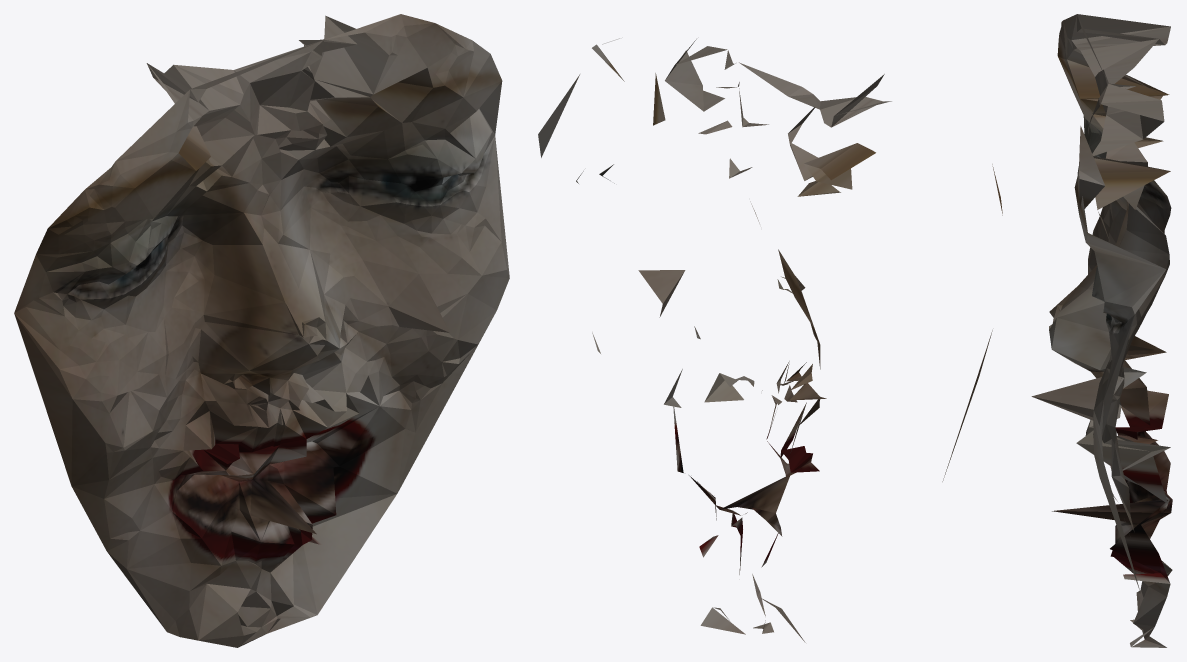
Rendered from original_output.glb.
The picture shows the model from 3 angles, left to right: view 1: azimuth 30°, elevation 25°; view 2: azimuth 150°, elevation 25°; view 3: azimuth 270°, elevation 25°; orthographic projection. The views are drawn at different scales.
Parts seen in each view (by area): view 1: world; view 2: world; view 3: world.
Boxes of the visible parts, x1,y1,x2,y2 form: world: [14, 14, 509, 647]; world: [538, 38, 1002, 642]; world: [1031, 14, 1172, 647].
Bounding box in the file's own units: 0.1281 × 0.1569 × 0.034.
Materials: 1 (1 with a texture image).
